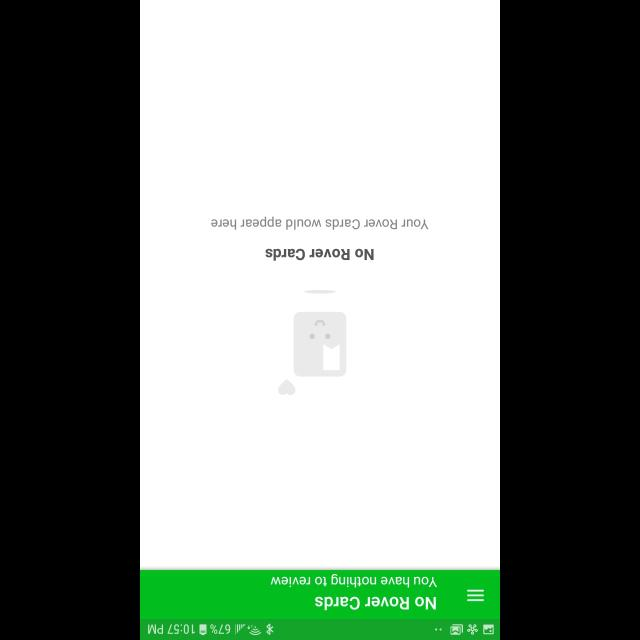icon: (466, 588, 484, 602)
image: (278, 289, 346, 395)
text: (212, 216, 428, 230), (270, 573, 438, 587), (314, 596, 436, 610), (265, 248, 373, 260)
uppertaskbar: (140, 618, 500, 640)
